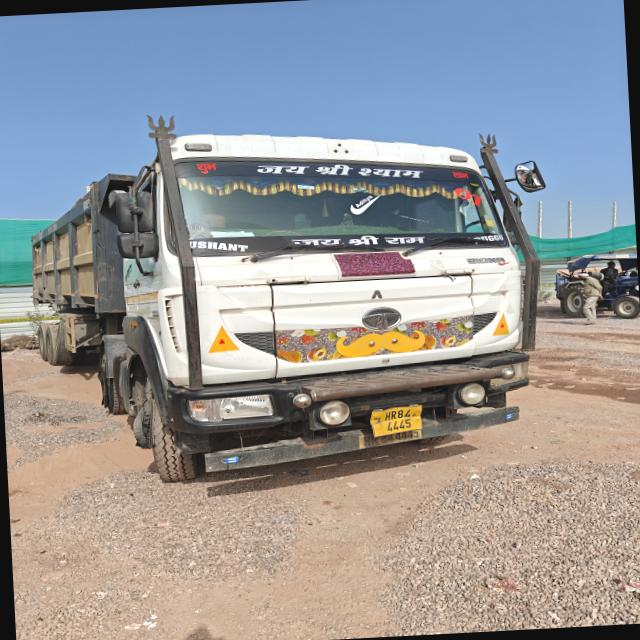license_plate: (371, 406, 422, 436), (359, 430, 421, 448)
